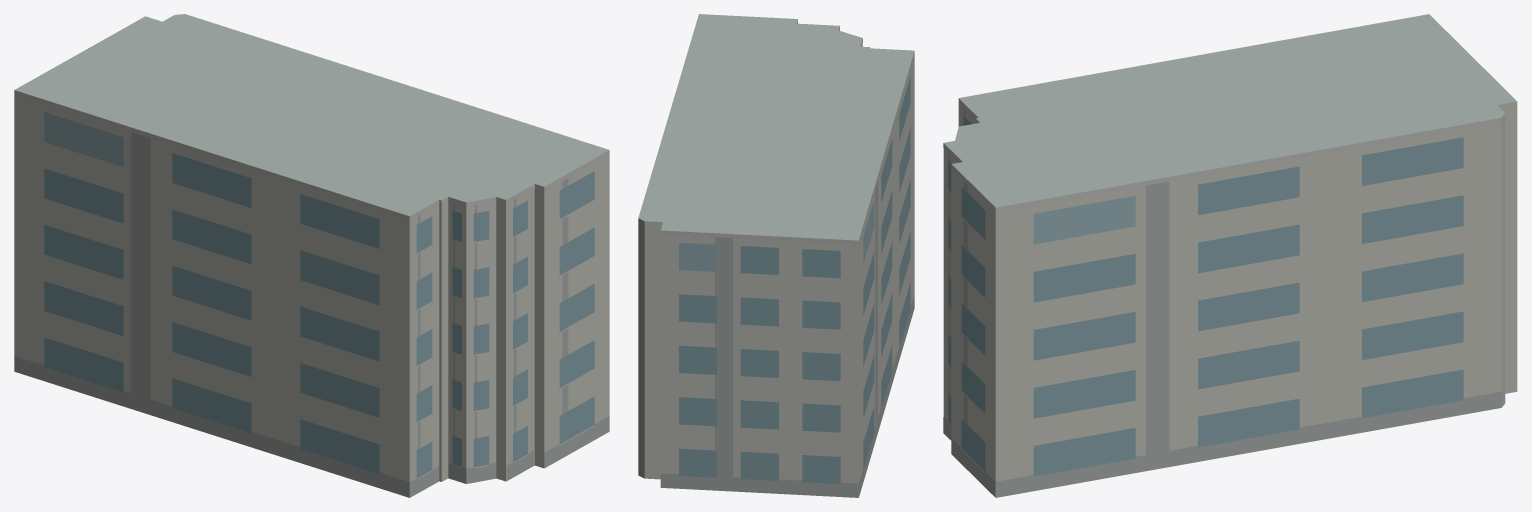
Rendered from survey-upis-32614777.glb.
3 views of the same model, side by side, from view 1: azimuth 30°, elevation 25°; view 2: azimuth 150°, elevation 25°; view 3: azimuth 270°, elevation 25° (orthographic). The views are drawn at different scales.
Visible parts, largest first — view 1: survey-upis-32614777.tmp; view 2: survey-upis-32614777.tmp; view 3: survey-upis-32614777.tmp.
Boxes of the visible parts, <box> form: survey-upis-32614777.tmp: <box>14,14,609,497</box>; survey-upis-32614777.tmp: <box>638,14,914,497</box>; survey-upis-32614777.tmp: <box>943,14,1517,497</box>.
Size of the model in its own units: 21.84 by 15.25 by 27.35.
